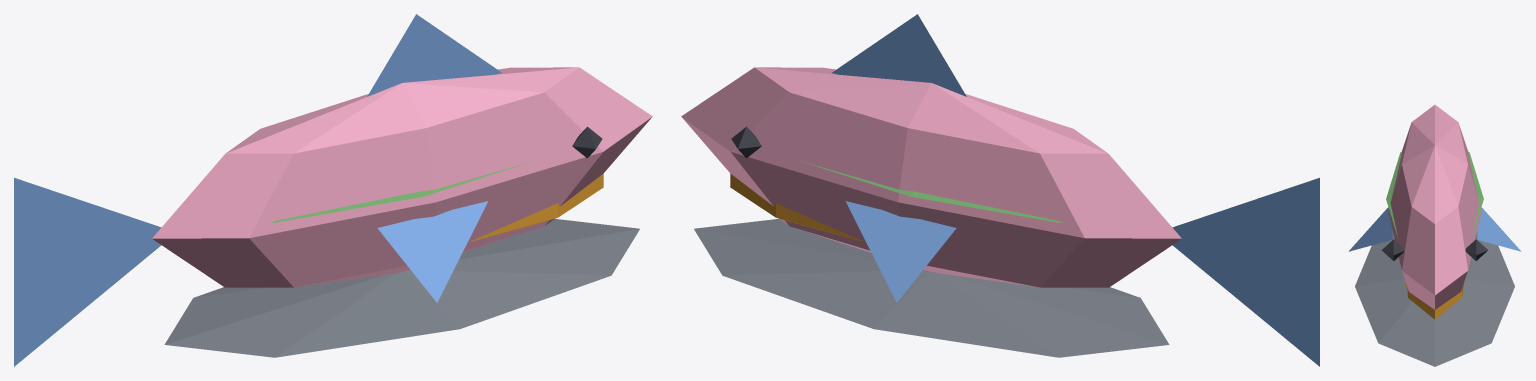
The model's file is deco_aurora_fish.obj.
The picture shows the model from 3 angles, left to right: view 1: azimuth 30°, elevation 25°; view 2: azimuth 150°, elevation 25°; view 3: azimuth 270°, elevation 25°; orthographic projection. The views are drawn at different scales.
Parts seen in each view (by area): view 1: deco_aurora_fish; view 2: deco_aurora_fish; view 3: deco_aurora_fish.
Part boxes in pixels (x1=…): deco_aurora_fish: x1=14, y1=14, x2=652, y2=366; deco_aurora_fish: x1=681, y1=14, x2=1319, y2=366; deco_aurora_fish: x1=1348, y1=105, x2=1521, y2=366.
Bounding box in the file's own units: 0.0459 × 0.0197 × 0.0156.
1 material, 1 textured.
